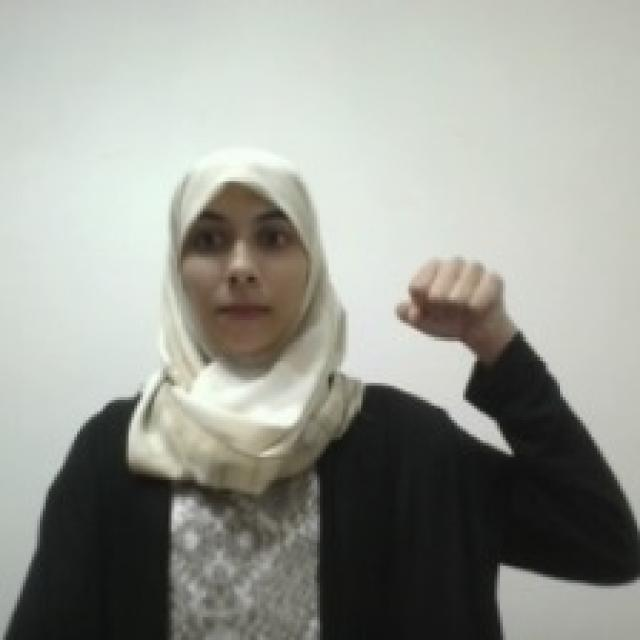yes: (391, 252, 509, 344)
